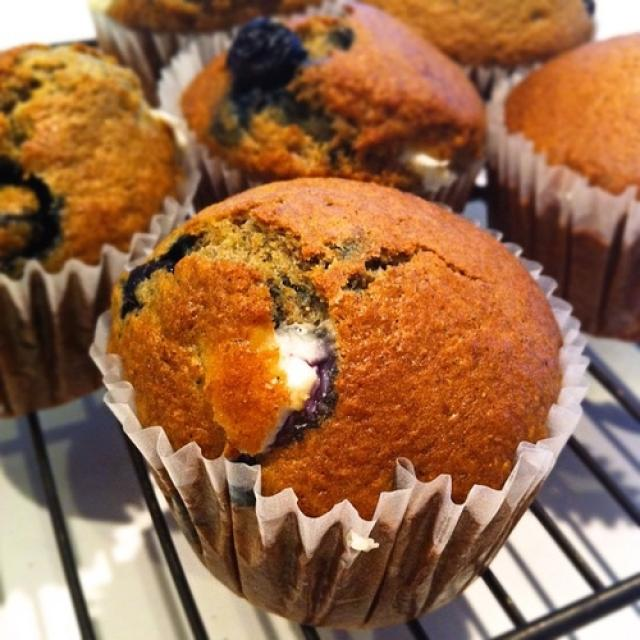炸货点心: (4, 7, 634, 634)
面包点心: (4, 7, 634, 634)
